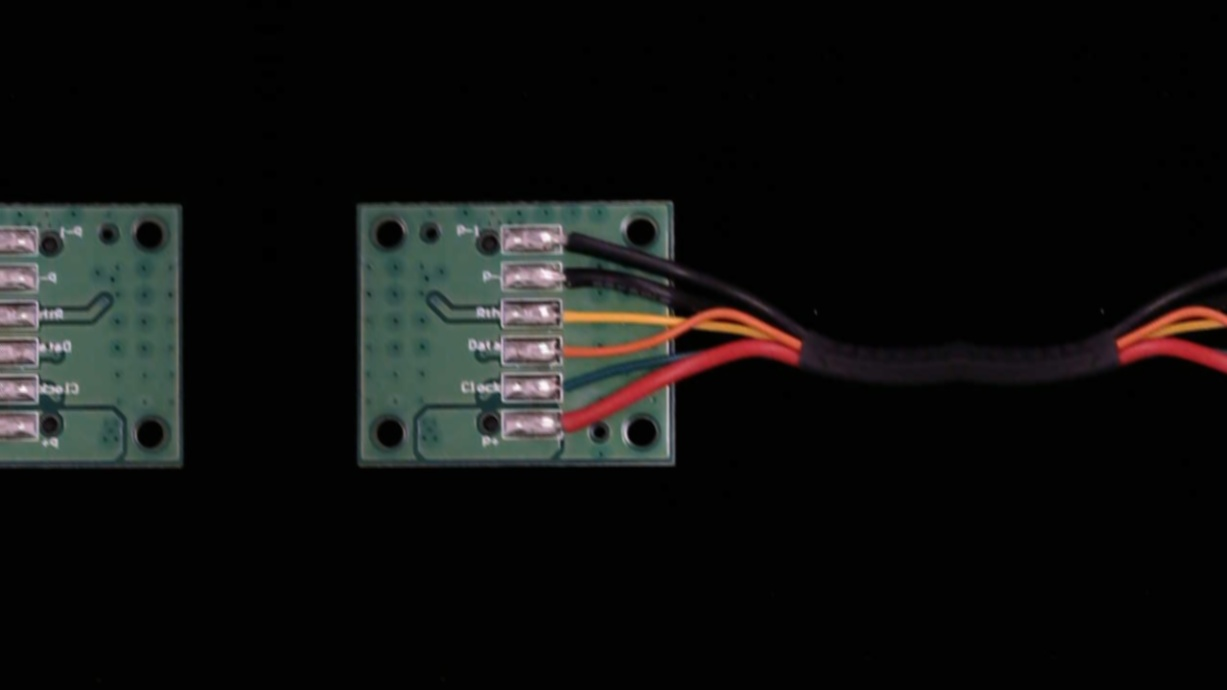Black: (542, 263, 610, 291)
Black1: (546, 222, 610, 254)
Green: (546, 374, 604, 401)
Orange: (541, 334, 610, 364)
Red: (547, 406, 602, 436)
Yellow: (543, 298, 608, 329)
